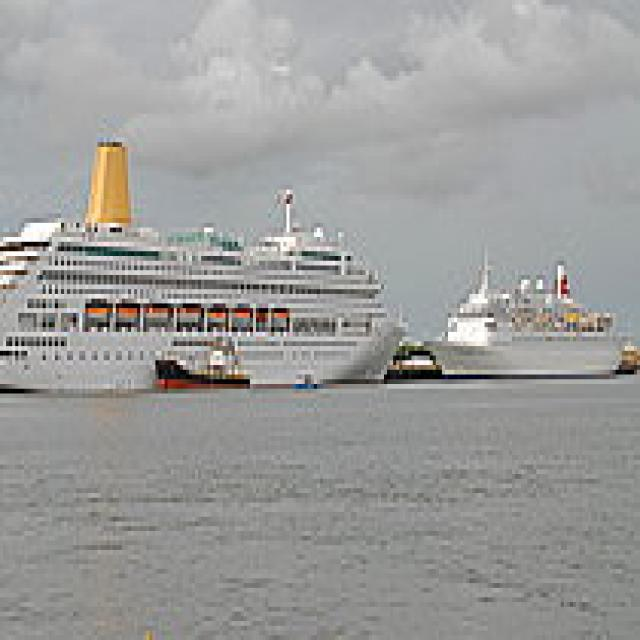Ship: (1, 138, 415, 399), (422, 243, 639, 400)
